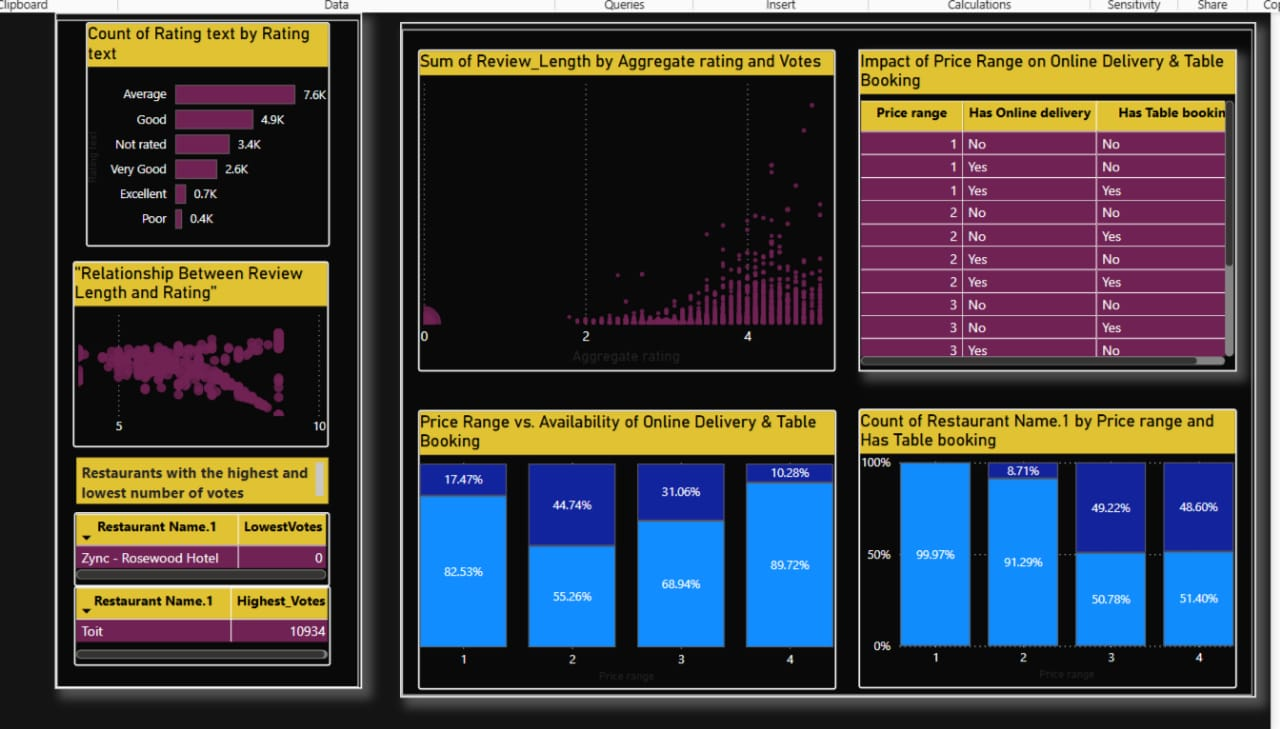

Layout of this report page (visuals, bound fields, positions):
{"tool":"powerbi","page":{"name":"LEVEL 3","canvas":[1280,720],"ordinal":2},"visuals":[{"type":"shape","box":[64.3,0,307.1,677.1],"z":0},{"type":"barChart","fields":{"Category":["Dataset_cleaned.Rating text"],"Y":["CountNonNull(Dataset_cleaned.Rating text)"]},"box":[95,10,243.8,225],"z":1000},{"type":"scatterChart","title":"\"Relationship Between Review Length and Rating\"","fields":{"X":["Dataset_cleaned.Avg_Review_Length"],"Y":["Avg(Dataset_cleaned.Aggregate rating)"],"Category":["Dataset_cleaned.Restaurant Name.1"]},"box":[82.5,248.8,256.2,186.2],"z":2000},{"type":"tableEx","fields":{"Values":["Dataset_cleaned.Restaurant Name.1","ChainCount.Highest_Votes"]},"box":[82.9,574.3,257.1,80],"z":3000},{"type":"tableEx","fields":{"Values":["ChainCount.Restaurant Name.1","ChainCount.LowestVotes"]},"box":[82.9,500,255.7,74.3],"z":4000},{"type":"shape","box":[410,10,855.7,675.7],"z":5000},{"type":"scatterChart","fields":{"X":["Dataset_cleaned.Aggregate rating"],"Y":["Dataset_cleaned.Votes"],"Size":["Sum(Dataset_cleaned.Review_Length)"]},"box":[427.5,37.5,417.5,322.5],"z":6000},{"type":"tableEx","title":"Impact of Price Range on Online Delivery & Table Booking","fields":{"Values":["Dataset_cleaned.Price range","Dataset_cleaned.Has Online delivery","Dataset_cleaned.Has Table booking"]},"box":[867.5,37.5,378.8,322.5],"z":7000},{"type":"hundredPercentStackedColumnChart","title":"Price Range vs. Availability of Online Delivery & Table Booking","fields":{"Category":["Dataset_cleaned.Price range"],"Y":["CountNonNull(Dataset_cleaned.Restaurant Name.1)"],"Series":["Dataset_cleaned.Has Online delivery"]},"box":[427.1,397.1,418.6,280],"z":8000},{"type":"hundredPercentStackedColumnChart","fields":{"Category":["Dataset_cleaned.Price range"],"Y":["CountNonNull(Dataset_cleaned.Restaurant Name.1)"],"Series":["Dataset_cleaned.Has Table booking"]},"box":[867.9,396.4,378.6,279.8],"z":9000},{"type":"textbox","box":[85.7,445.2,252.4,46.4],"z":10002}]}

Visuals, with their boxes in screenshot pixels (x1, y1, x2, y2):
shape: x1=42, y1=0, x2=356, y2=692
barChart - Dataset_cleaned.Rating text x CountNonNull(Dataset_cleaned.Rating text): x1=74, y1=10, x2=323, y2=240
""Relationship Between Review Length and Rating"" scatterChart: x1=61, y1=254, x2=323, y2=445
tableEx - Dataset_cleaned.Restaurant Name.1 x ChainCount.Highest_Votes: x1=61, y1=587, x2=324, y2=669
tableEx - ChainCount.Restaurant Name.1 x ChainCount.LowestVotes: x1=61, y1=511, x2=323, y2=587
shape: x1=396, y1=10, x2=1271, y2=701
scatterChart - Dataset_cleaned.Aggregate rating x Dataset_cleaned.Votes: x1=414, y1=38, x2=841, y2=368
"Impact of Price Range on Online Delivery & Table Booking" tableEx: x1=864, y1=38, x2=1251, y2=368
"Price Range vs. Availability of Online Delivery & Table Booking" hundredPercentStackedColumnChart: x1=413, y1=406, x2=841, y2=692
hundredPercentStackedColumnChart - Dataset_cleaned.Price range x CountNonNull(Dataset_cleaned.Restaurant Name.1): x1=864, y1=405, x2=1251, y2=691
textbox: x1=64, y1=455, x2=322, y2=503
